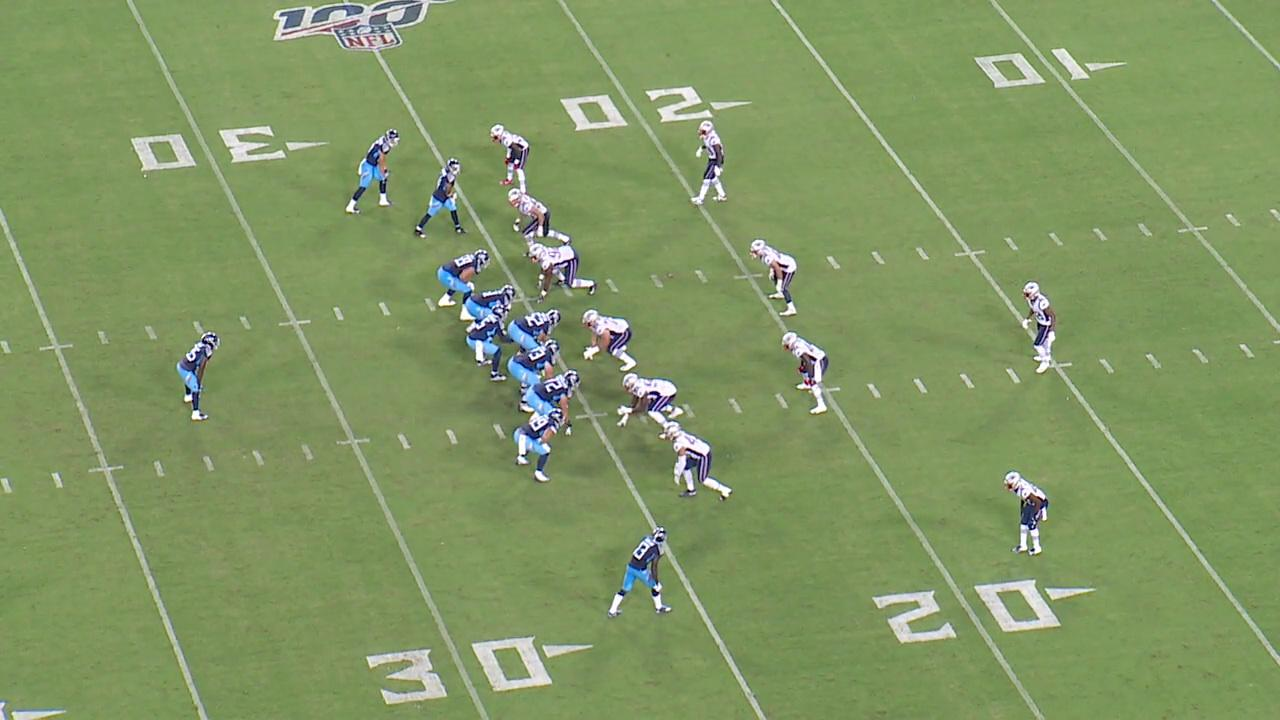player: (605, 523, 676, 621), (662, 419, 735, 505), (342, 125, 403, 217), (505, 185, 574, 261), (411, 156, 471, 242), (615, 373, 686, 442), (526, 240, 599, 305), (174, 330, 223, 423), (780, 329, 831, 418), (1002, 466, 1051, 558), (510, 407, 566, 485), (434, 247, 492, 322), (506, 337, 562, 414), (523, 368, 584, 438), (464, 303, 516, 384), (1017, 279, 1059, 377), (749, 238, 800, 318), (580, 307, 638, 374), (688, 119, 728, 208), (488, 122, 532, 196), (506, 307, 563, 359), (462, 282, 517, 335)
